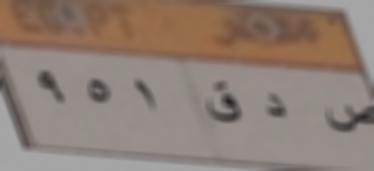1: (130, 72, 168, 118)
9: (34, 66, 72, 117)
daal: (255, 87, 292, 124)
haa: (78, 72, 120, 120)
qaaf: (204, 75, 243, 133)
saad: (324, 97, 374, 136)
